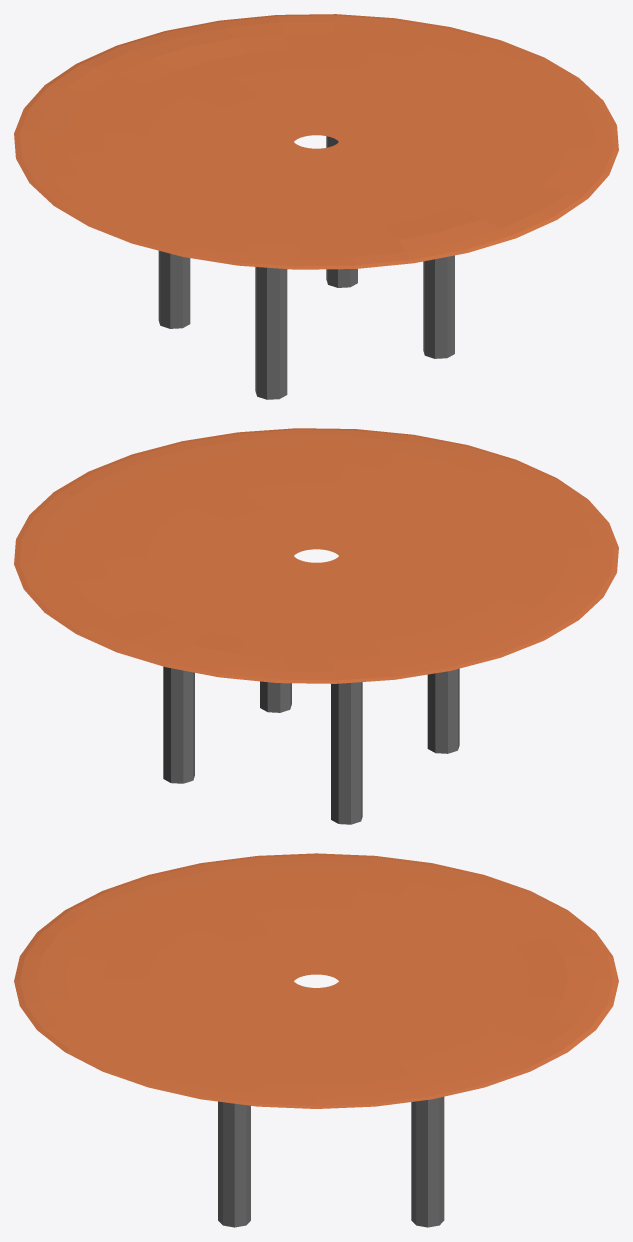
Rendered from retailtableround.fbx.
3 renders of one model, top to bottom at view 1: azimuth 30°, elevation 25°; view 2: azimuth 150°, elevation 25°; view 3: azimuth 270°, elevation 25°, orthographic.
Visible parts, largest first — view 1: Cylinder; view 2: Cylinder; view 3: Cylinder.
Part boxes in pixels (box(x1,y1,x2,y2)): Cylinder: box(14, 14, 618, 399); Cylinder: box(14, 428, 618, 824); Cylinder: box(14, 853, 618, 1227).
Size of the model in its own units: 626 by 232 by 626.
